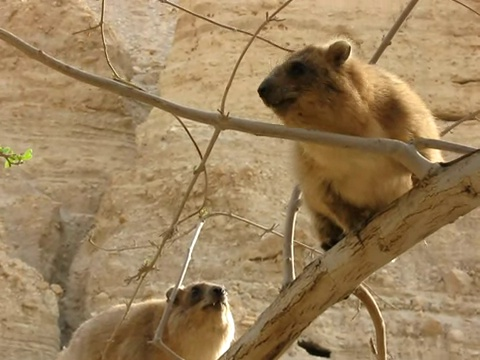Rock Hyrex: (258, 39, 447, 254), (54, 283, 239, 360)
